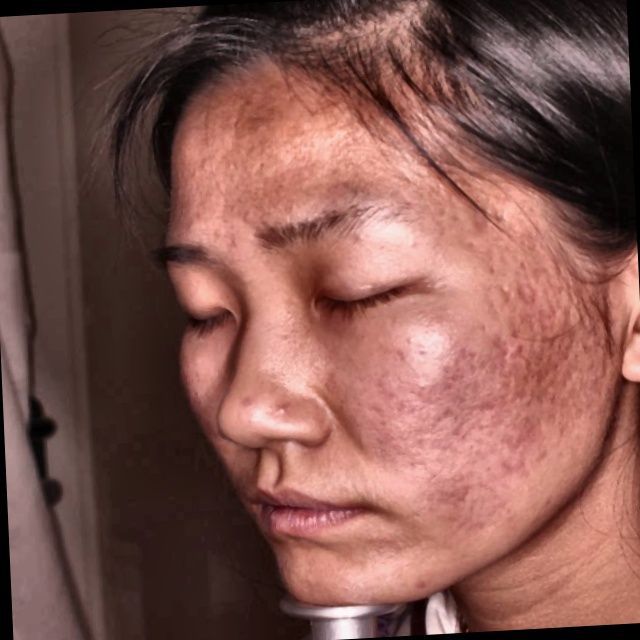comedone: (412, 571, 449, 596), (270, 397, 298, 419), (232, 390, 258, 410)
